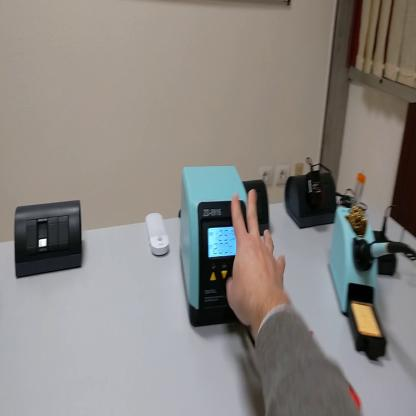electric screwdriver battery: (375, 233, 398, 276)
hand: (225, 186, 288, 333)
socket: (284, 173, 337, 229), (243, 180, 271, 239)
welder base: (329, 208, 389, 364)
welder probe tip: (353, 236, 416, 272)
welder station: (181, 166, 250, 328)
